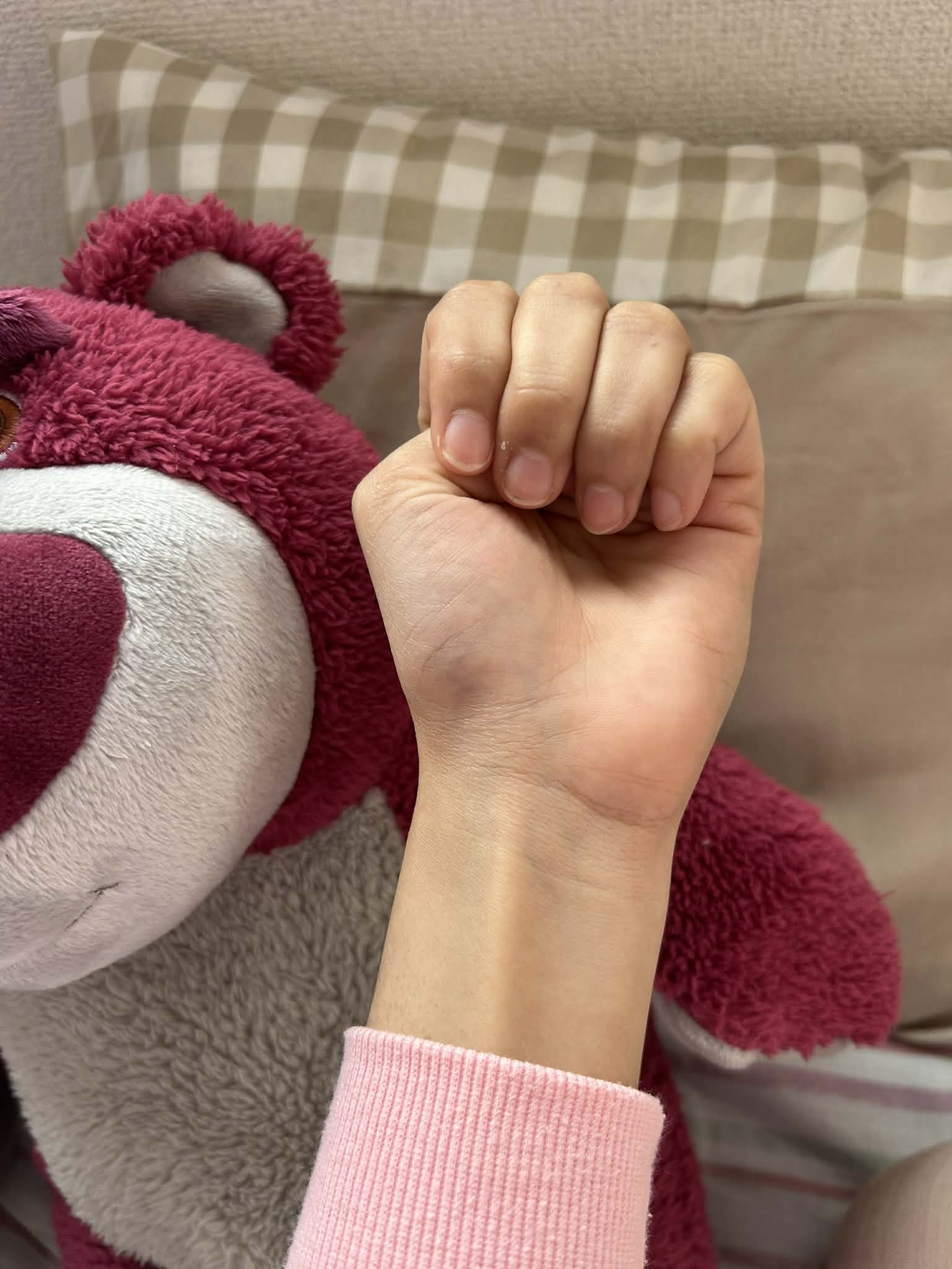right_closed_palm: (372, 285, 717, 764)
